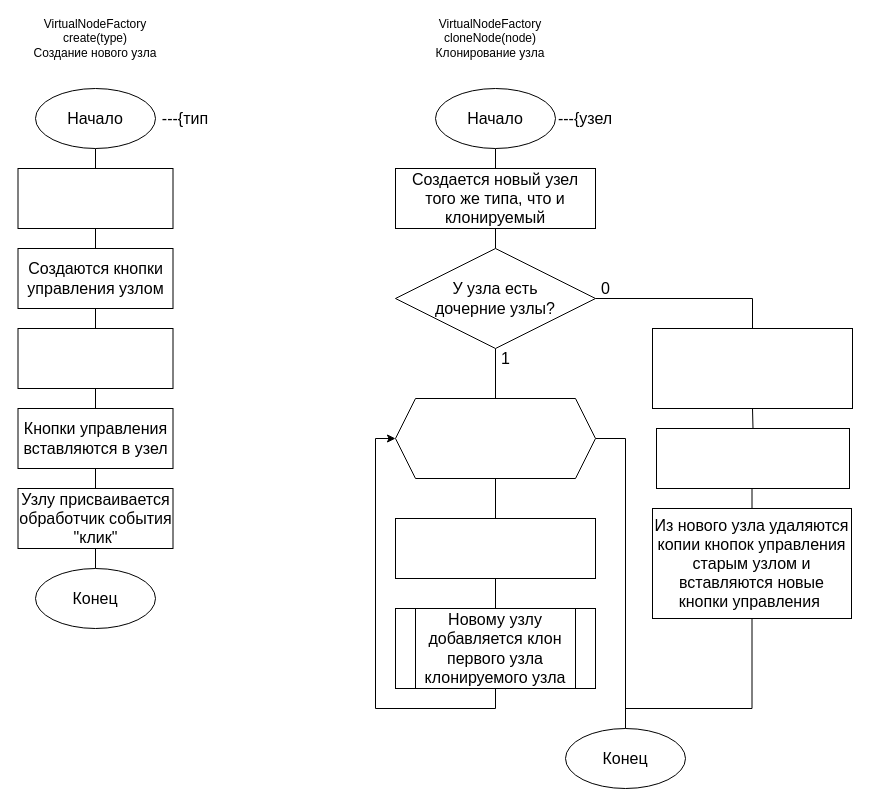
The diagram is 870 pixels wide and 806 high, and some of its shapes have lost their labels. The shapes that lost their labels are listed below. From the top down, each one's box as (x1, y1, x2, y2) in pixels, then its label:
(17, 168, 173, 228): Создается новый узел
(17, 328, 173, 388): Узлу присваивается название класса
(652, 328, 852, 408): DOM-элементу нового узла присваивается копия DOM-элемента клонируемого узла
(394, 398, 596, 478): Пока у узла есть дочерние узлы
(656, 428, 850, 488): Создаются новые кнопки управления узлом
(394, 518, 596, 578): Новому узлу присваиваются текст и стили клонируемого
